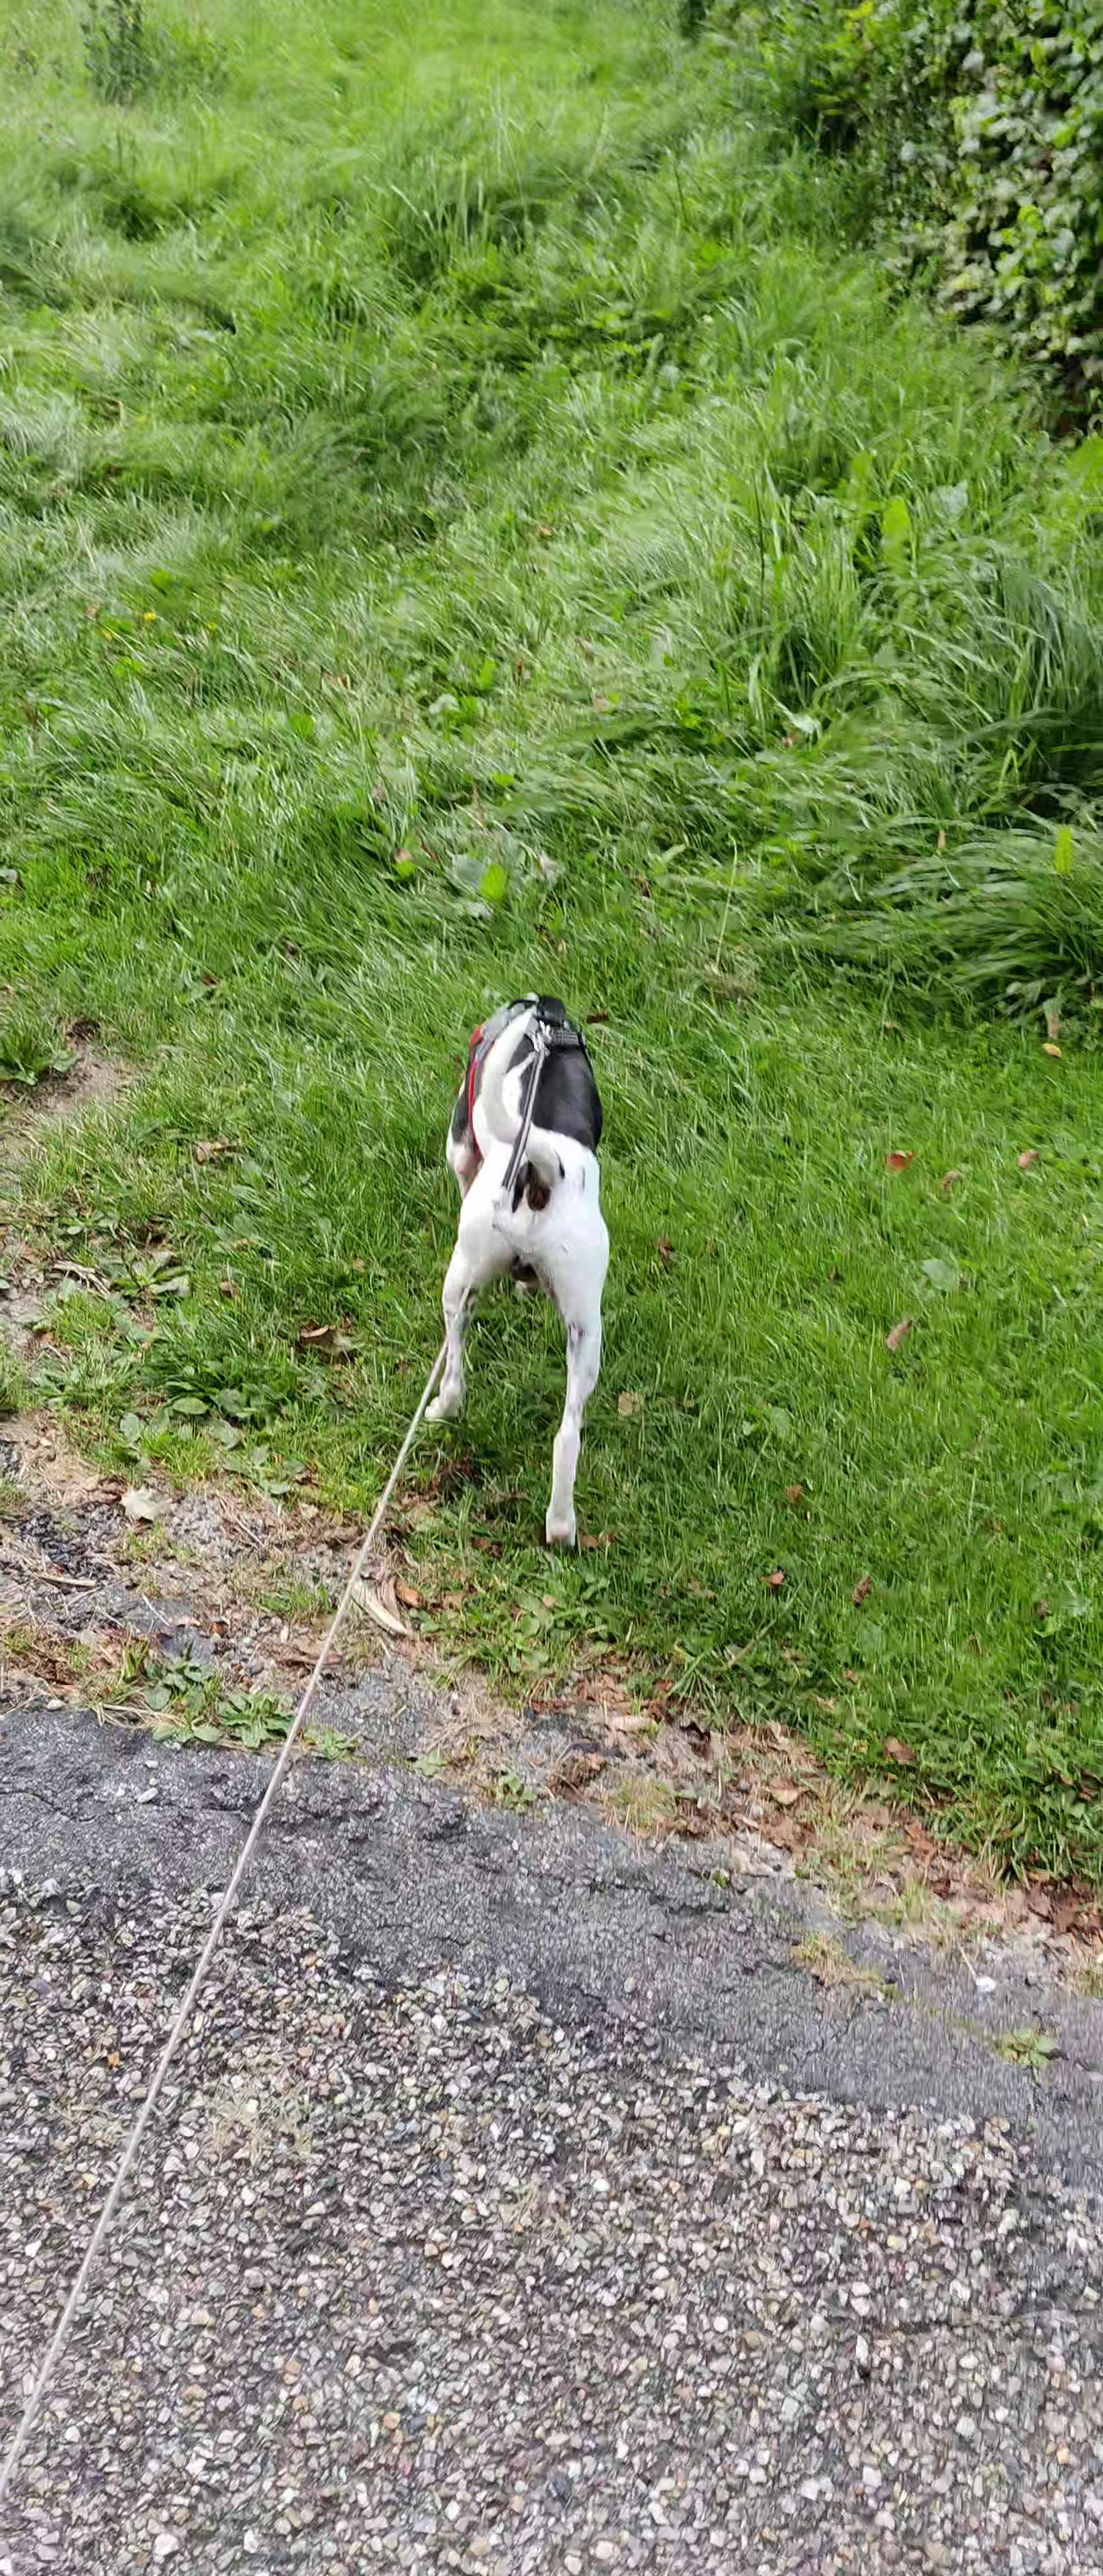Dog: (391, 969, 628, 1557)
